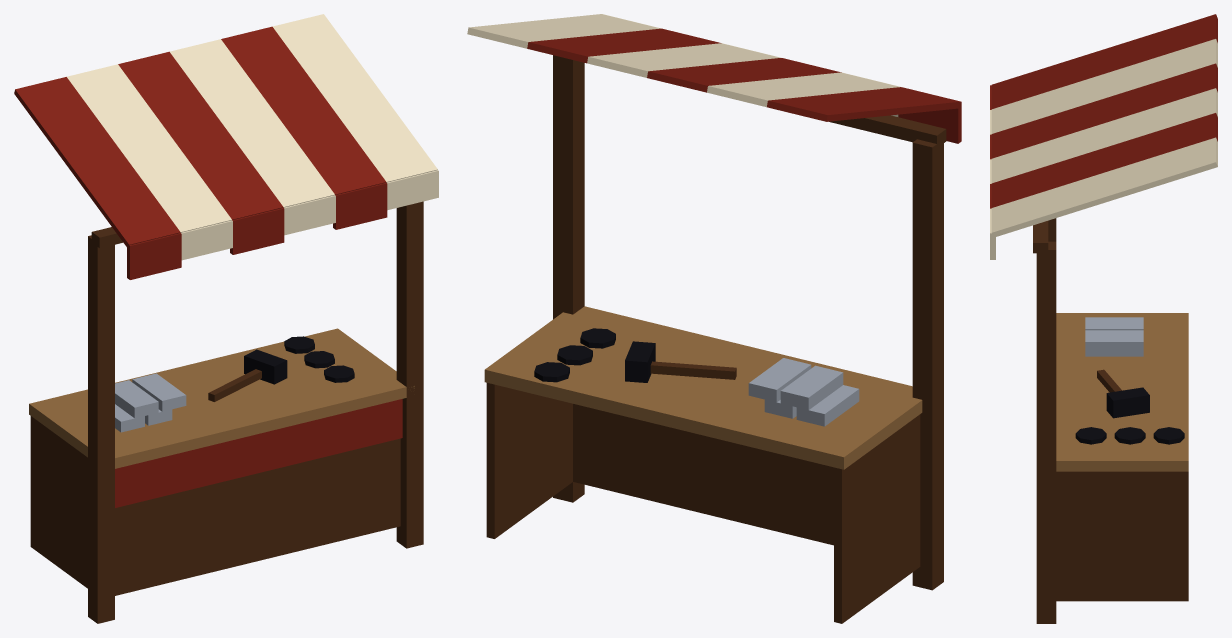
The model's file is shop_smith_stall.gltf.
3 views of the same model, side by side, from view 1: azimuth 30°, elevation 25°; view 2: azimuth 150°, elevation 25°; view 3: azimuth 270°, elevation 25° (orthographic). The views are drawn at different scales.
Parts seen in each view (by area): view 1: ShopSmithStallShopWood, ShopSmithStallShopCloth, ShopSmithStallShopCream, ShopSmithStallShopWoodLight, ShopSmithStallShopSteel, ShopSmithStallShopIron; view 2: ShopSmithStallShopWood, ShopSmithStallShopWoodLight, ShopSmithStallShopCloth, ShopSmithStallShopCream, ShopSmithStallShopSteel, ShopSmithStallShopIron; view 3: ShopSmithStallShopWood, ShopSmithStallShopCream, ShopSmithStallShopCloth, ShopSmithStallShopWoodLight, ShopSmithStallShopIron, ShopSmithStallShopSteel.
Boxes of the visible parts, x1,y1,x2,y2 form: ShopSmithStallShopWood: (30, 201, 423, 623); ShopSmithStallShopCloth: (14, 26, 402, 507); ShopSmithStallShopCream: (67, 14, 438, 260); ShopSmithStallShopWoodLight: (29, 328, 414, 468); ShopSmithStallShopSteel: (115, 373, 186, 432); ShopSmithStallShopIron: (244, 336, 354, 384); ShopSmithStallShopWood: (486, 55, 946, 623); ShopSmithStallShopWoodLight: (484, 306, 922, 469); ShopSmithStallShopCloth: (527, 28, 961, 143); ShopSmithStallShopCream: (467, 14, 901, 116); ShopSmithStallShopSteel: (748, 358, 859, 426); ShopSmithStallShopIron: (534, 328, 655, 382); ShopSmithStallShopWood: (1033, 218, 1188, 623); ShopSmithStallShopCream: (990, 39, 1217, 259); ShopSmithStallShopCloth: (990, 14, 1217, 208); ShopSmithStallShopWoodLight: (1056, 313, 1188, 471); ShopSmithStallShopIron: (1075, 387, 1184, 444); ShopSmithStallShopSteel: (1085, 317, 1143, 356).
Size of what is drawn, in the model's own units: 1.9 by 2.59 by 1.17.
